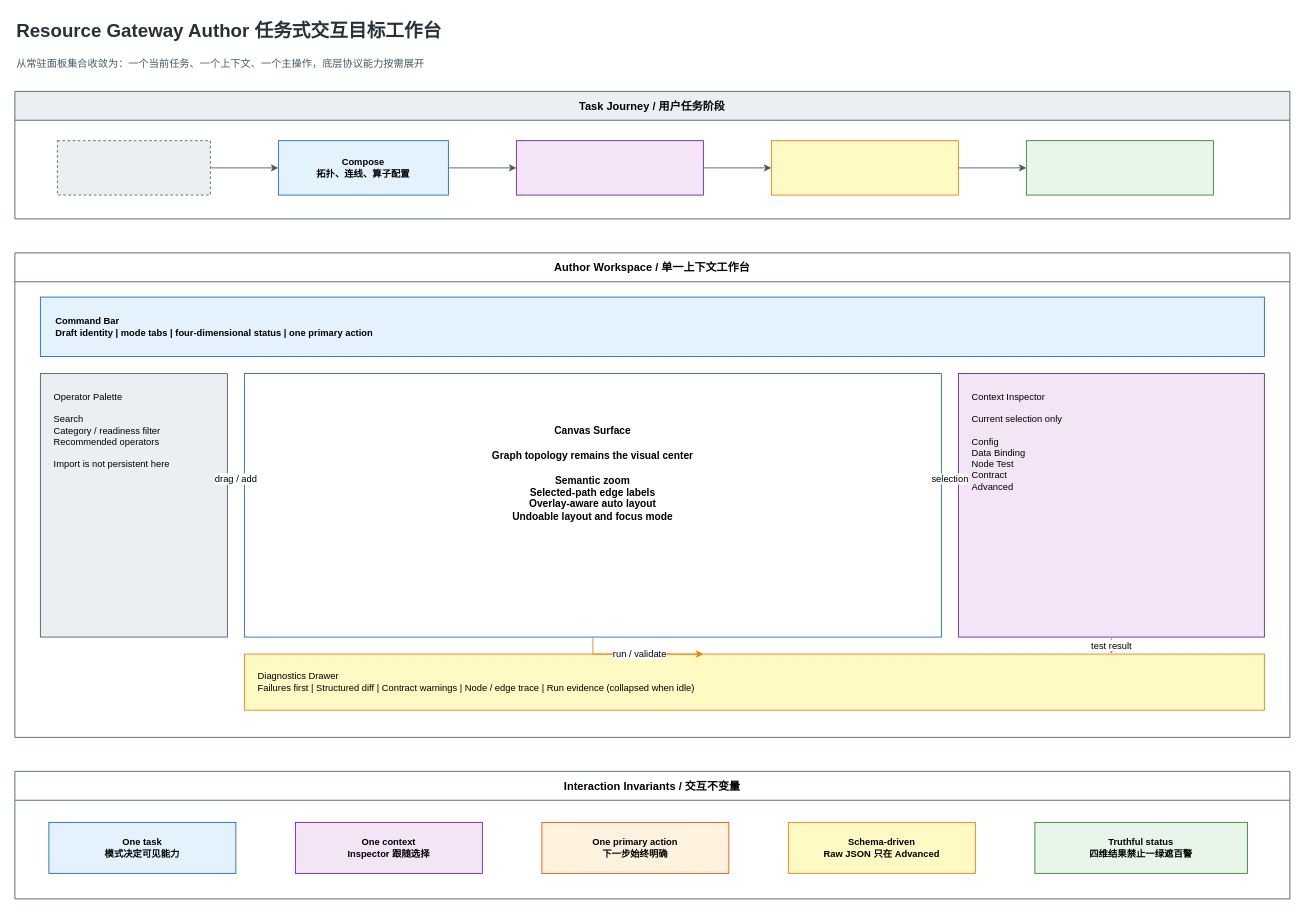
The diagram is 1305 pixels wide and 914 high, and some of its shapes have lost their labels. Here are the shapes that lost their labels. From the top down, the centre of each, then its label:
At pixel 133 167: "Start 示例 / 导入 / 空白".
At pixel 609 167: "Contract Graph 输入输出与字段血缘".
At pixel 864 167: "Test Scenario、依赖行为、断言".
At pixel 1119 167: "Review 差异、证据、治理状态".
